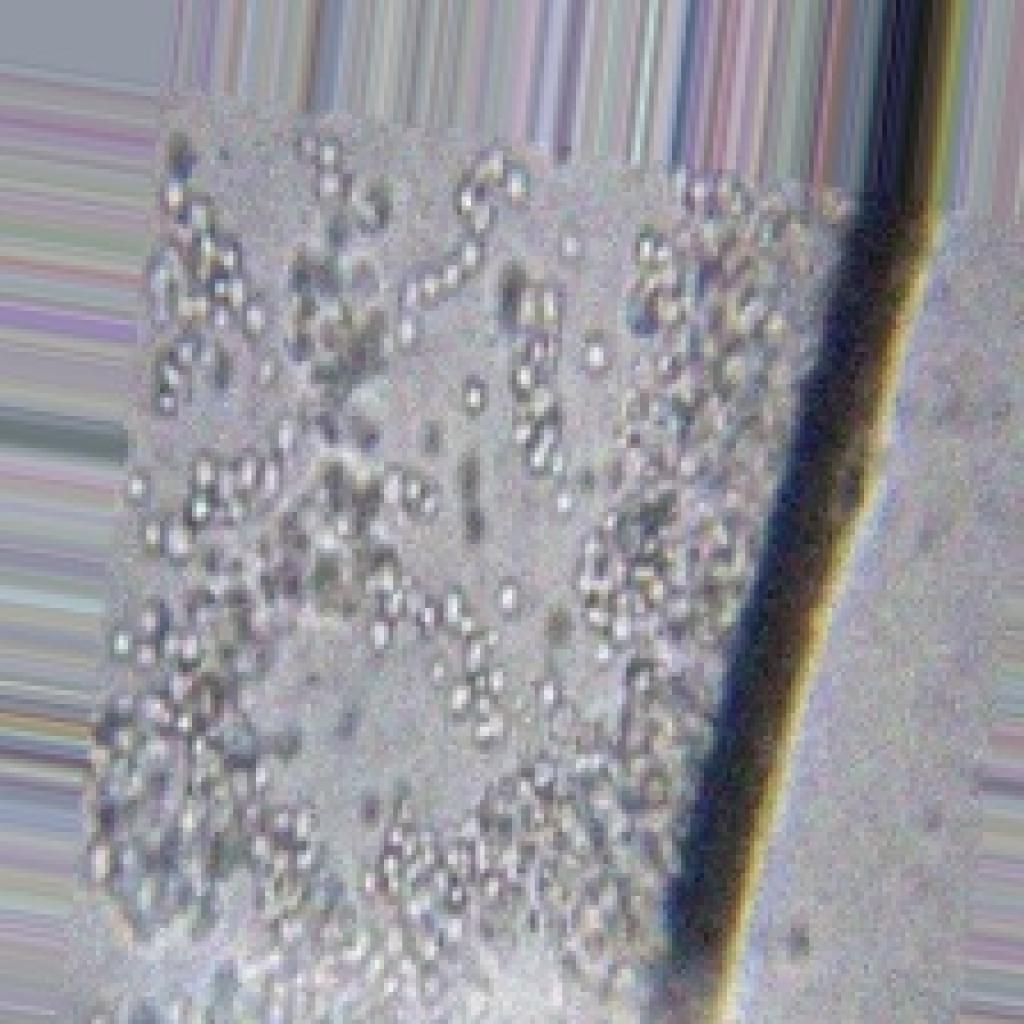Yeast: (76, 60, 980, 1024)
